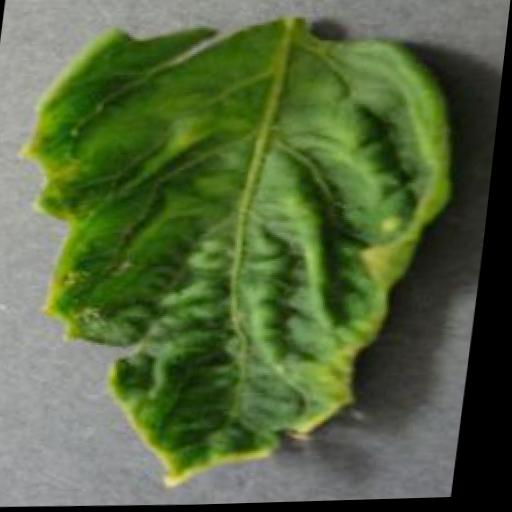Yellow Leaf Curl Virus: (0, 14, 475, 497)
